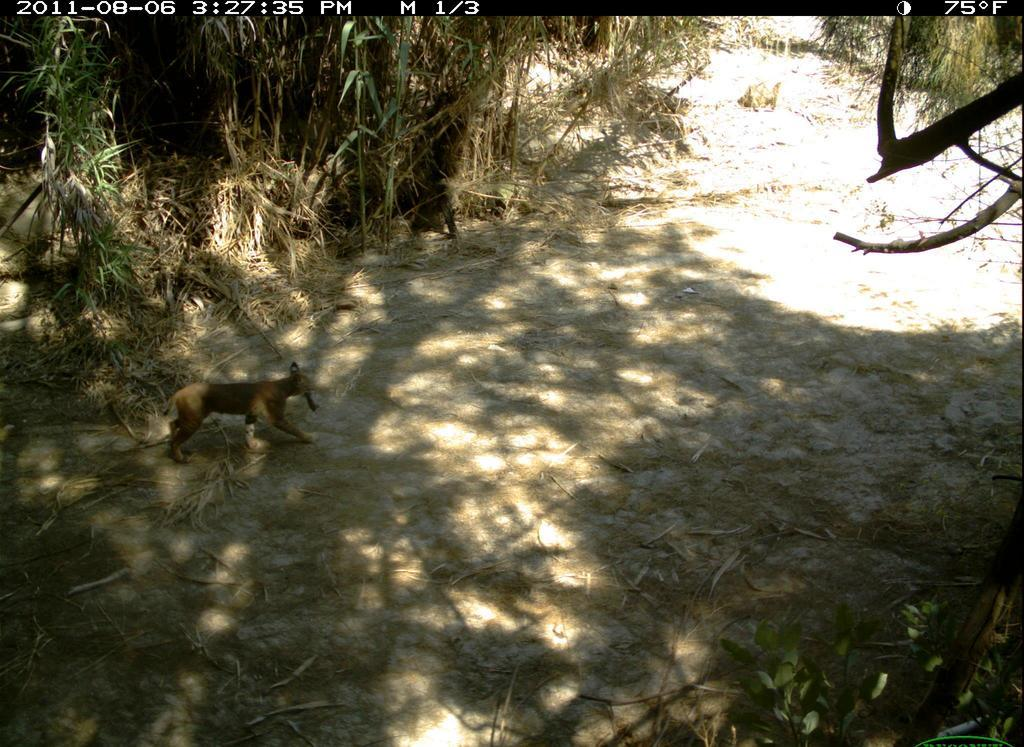rodent: (297, 387, 325, 419)
